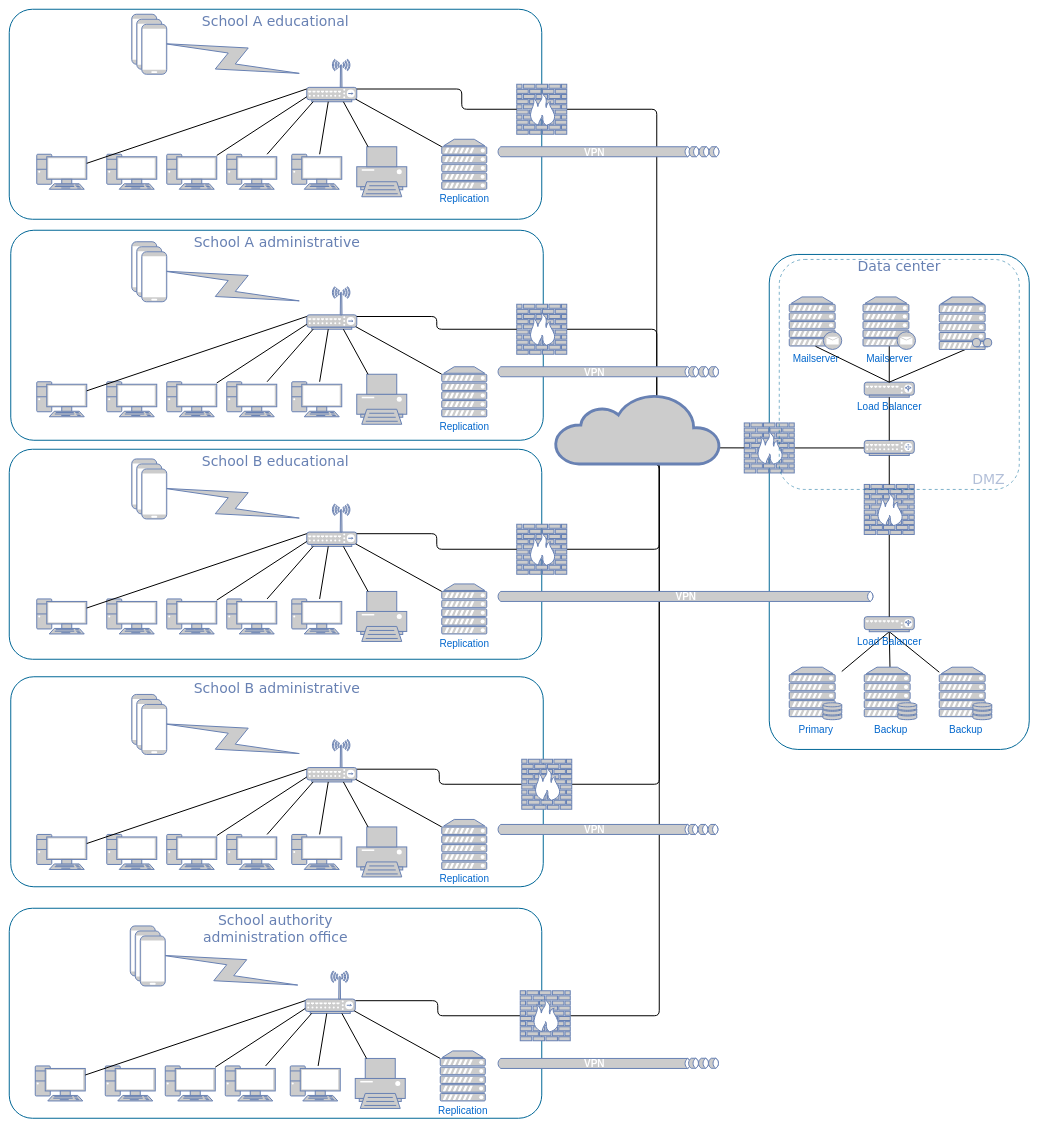
Some shapes in this 1038 by 1127 pixel diagram are drawn without their labels. Each missing label, with the centre of its shape:
Internet: point (637, 428)
Nextcloud: point (965, 323)
